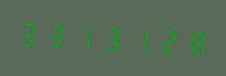eight: (179, 23, 205, 60)
one: (71, 17, 97, 55), (125, 20, 151, 58)
three: (17, 15, 43, 52), (44, 16, 70, 53), (98, 19, 124, 56)
two: (152, 22, 178, 59)
